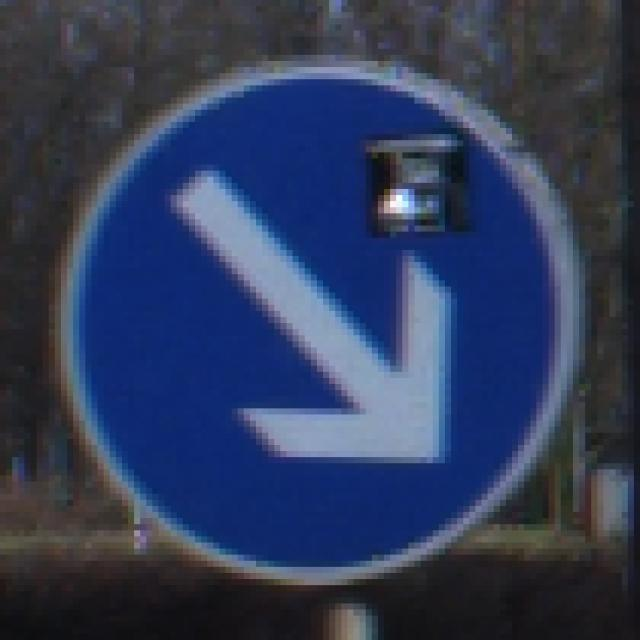compulsary keep right: (49, 52, 579, 584)
